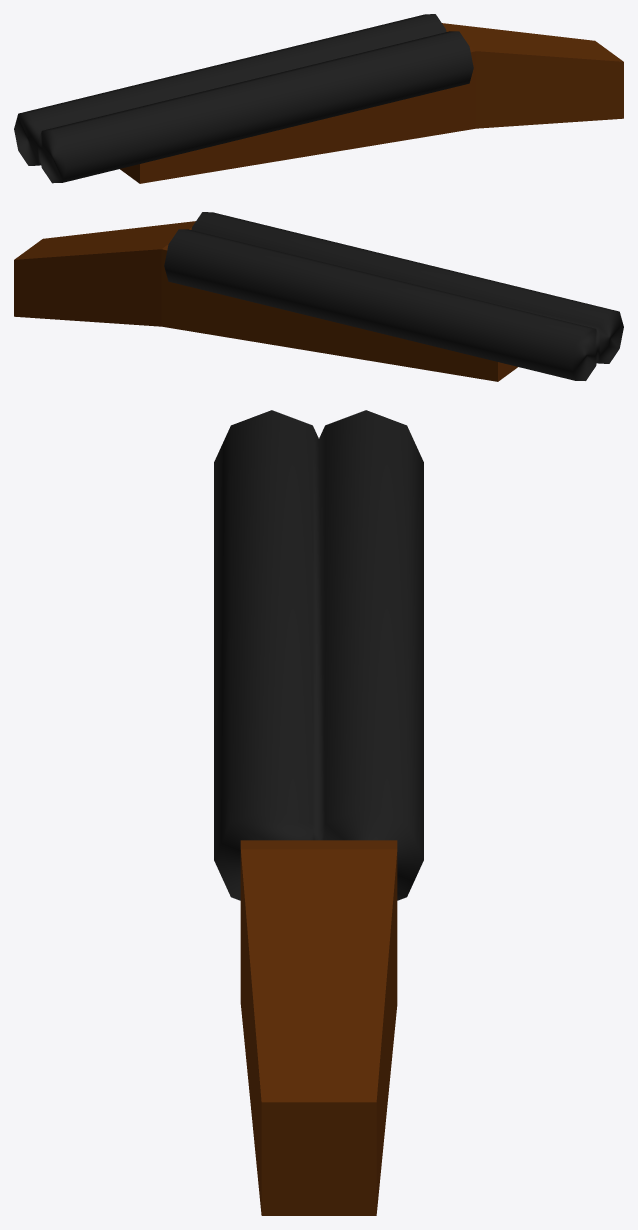
File: sawed off shotgun.glb
3 views of the same model, one above another, from view 1: azimuth 30°, elevation 25°; view 2: azimuth 150°, elevation 25°; view 3: azimuth 270°, elevation 25° (orthographic). The views are drawn at different scales.
Visible parts, largest first — view 1: Barrels, Handle, Stock; view 2: Barrels, Handle, Stock; view 3: Barrels, Handle, Stock.
Part boxes in pixels (box(x1,y1,x2,y2)): Barrels: box(14, 14, 473, 183); Handle: box(442, 23, 623, 128); Stock: box(120, 29, 476, 183); Barrels: box(164, 212, 623, 380); Handle: box(14, 221, 195, 326); Stock: box(161, 227, 517, 381); Barrels: box(214, 410, 423, 900); Handle: box(240, 849, 397, 1215); Stock: box(240, 840, 397, 849).
Size of the model in its own units: 1.71 by 0.3586 by 0.273.
